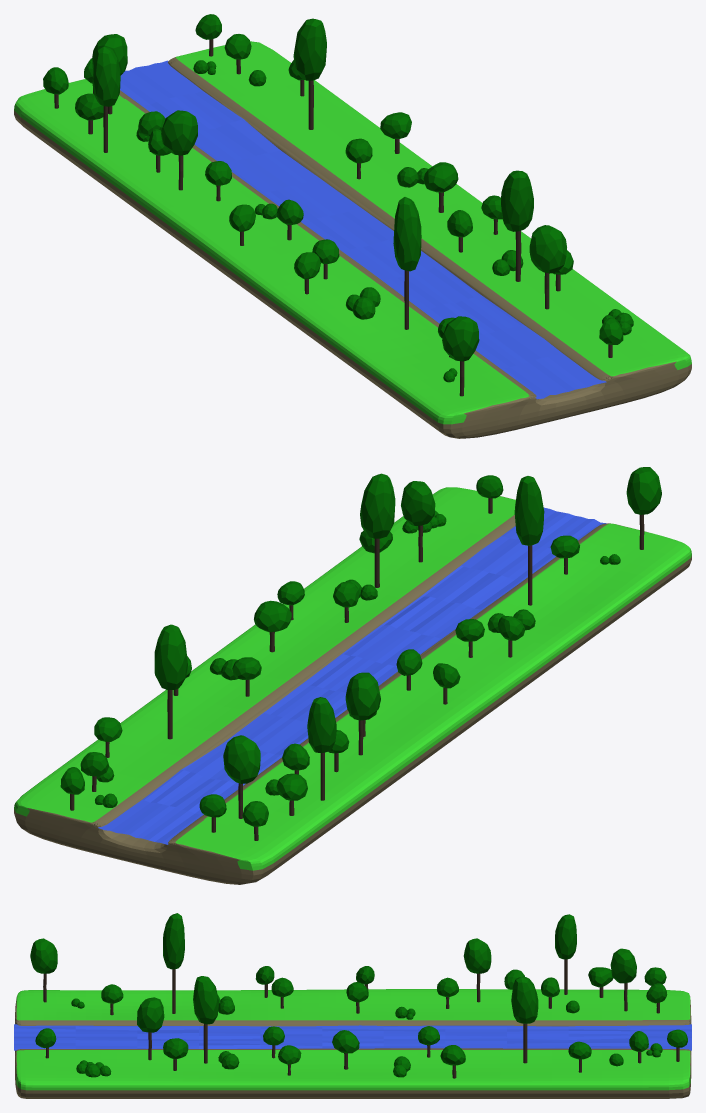
Rendered from low poly river.fbx.
3 renders of one model, top to bottom at view 1: azimuth 30°, elevation 25°; view 2: azimuth 150°, elevation 25°; view 3: azimuth 270°, elevation 25°, orthographic. The views are drawn at different scales.
Visible parts, largest first — view 1: floor, trees, river, smalltrees; view 2: floor, trees, river, smalltrees; view 3: floor, trees, river, smalltrees.
Part boxes in pixels (x1=…): floor: x1=14, y1=41, x2=691, y2=438; trees: x1=43, y1=14, x2=623, y2=396; river: x1=120, y1=60, x2=606, y2=399; smalltrees: x1=136, y1=60, x2=633, y2=382; floor: x1=14, y1=487, x2=691, y2=884; trees: x1=60, y1=467, x2=661, y2=840; river: x1=98, y1=507, x2=606, y2=844; smalltrees: x1=95, y1=510, x2=620, y2=807; floor: x1=15, y1=989, x2=691, y2=1098; trees: x1=30, y1=913, x2=687, y2=1078; river: x1=14, y1=1024, x2=691, y2=1050; smalltrees: x1=71, y1=995, x2=662, y2=1077.
Bounding box in the file's own units: 1001 × 608 × 3006.
